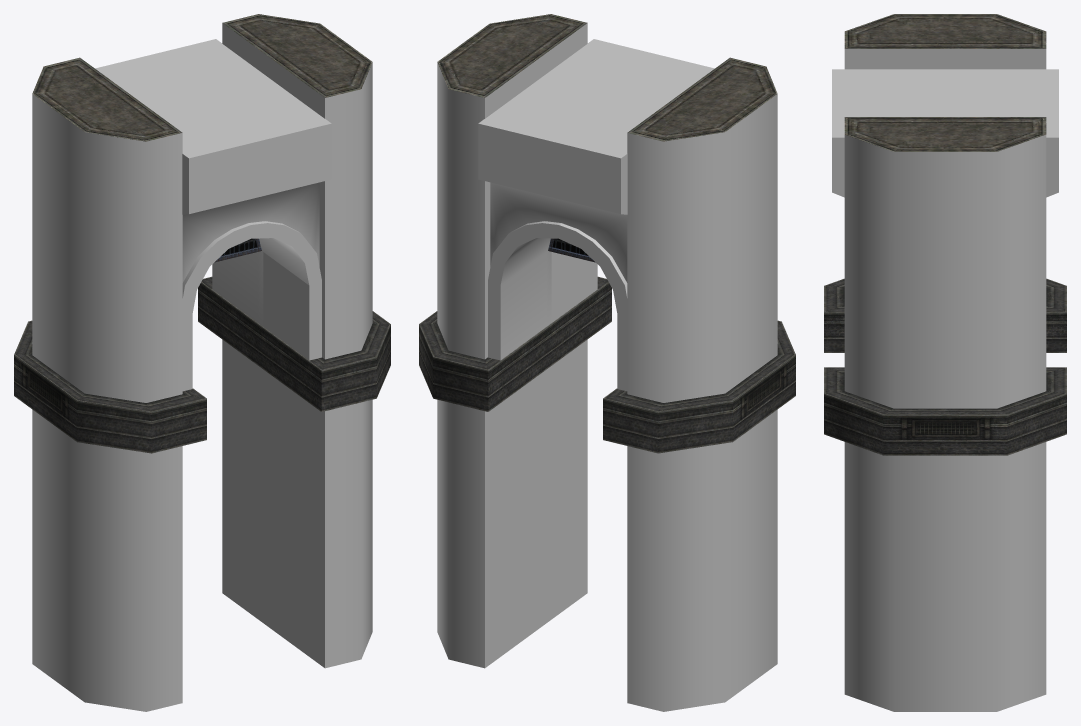
Rendered from BridgeGate.fbx.
3 views of the same model, side by side, from view 1: azimuth 30°, elevation 25°; view 2: azimuth 150°, elevation 25°; view 3: azimuth 270°, elevation 25° (orthographic).
Visible parts, largest first — view 1: SMO_BG50_bridge_001_ILCA; view 2: SMO_BG50_bridge_001_ILCA; view 3: SMO_BG50_bridge_001_ILCA.
Part boxes in pixels (x1,y1,x2,y2): SMO_BG50_bridge_001_ILCA: (14,14,390,711); SMO_BG50_bridge_001_ILCA: (419,14,795,711); SMO_BG50_bridge_001_ILCA: (824,14,1066,711).
Bounding box in the file's own units: 3466 × 6020 × 2364.
